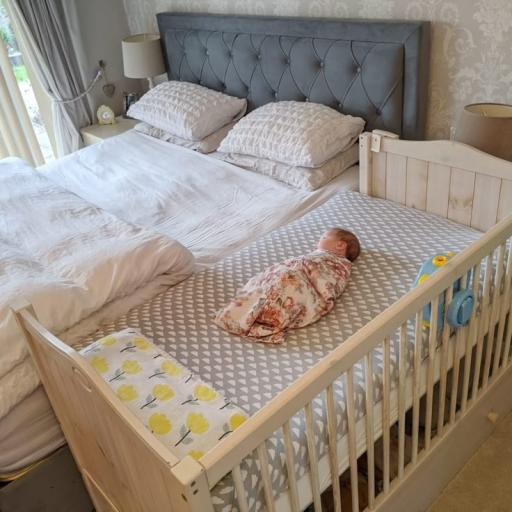baby: (215, 229, 360, 342)
crib: (14, 132, 511, 511)
